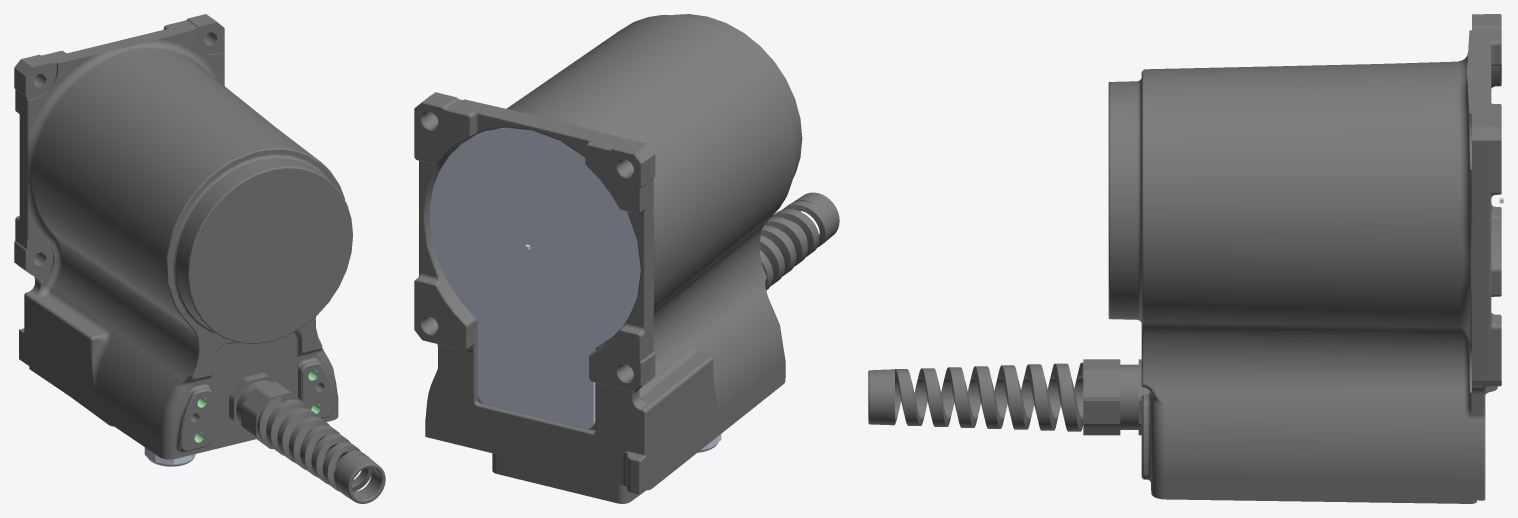
The picture shows the model from 3 angles, left to right: view 1: azimuth 30°, elevation 25°; view 2: azimuth 150°, elevation 25°; view 3: azimuth 270°, elevation 25°; orthographic projection. The views are drawn at different scales.
Parts seen in each view (by area): view 1: unnamed13.001, unnamed15.001; view 2: unnamed13.001, unnamed15.001; view 3: unnamed13.001.
Part boxes in pixels (left/top/right/bottom): unnamed13.001: left=14, top=14, right=385, bottom=503; unnamed15.001: left=144, top=447, right=195, bottom=466; unnamed13.001: left=414, top=14, right=839, bottom=503; unnamed15.001: left=430, top=128, right=721, bottom=452; unnamed13.001: left=868, top=14, right=1501, bottom=503.
Size of the model in its own units: 140 by 227 by 310.
